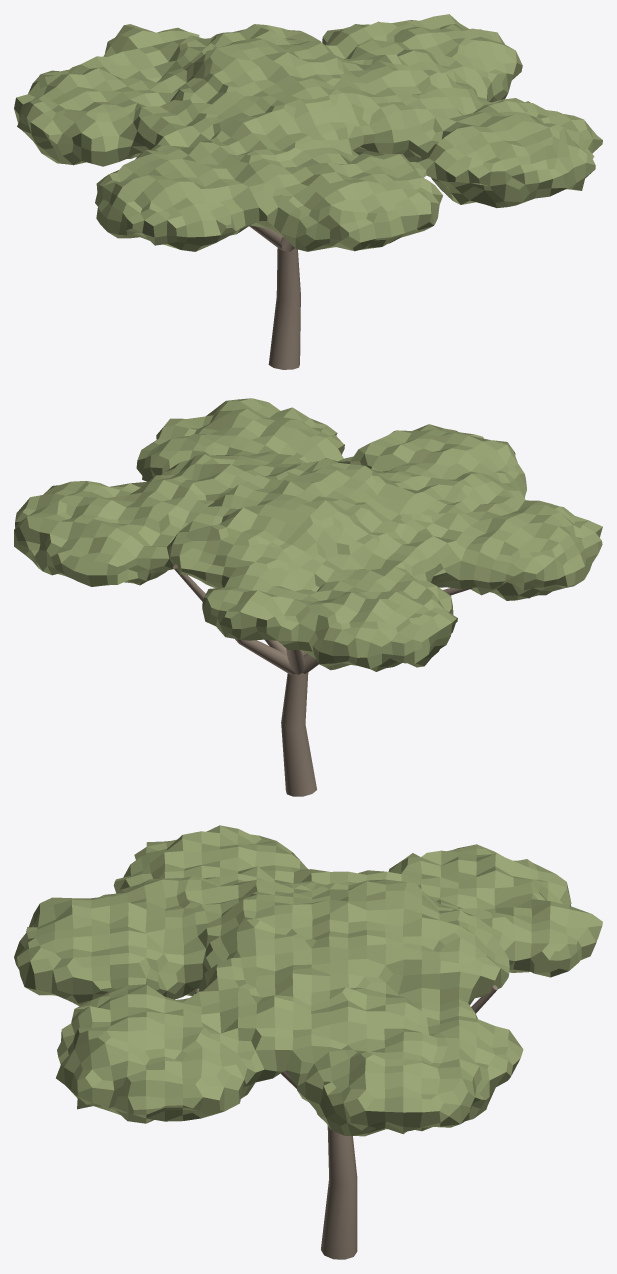
Rendered from SM_Acacia.fbx.
3 views of the same model, one above another, from view 1: azimuth 30°, elevation 25°; view 2: azimuth 150°, elevation 25°; view 3: azimuth 270°, elevation 25° (orthographic). The views are drawn at different scales.
Parts seen in each view (by area): view 1: SM_Acacia; view 2: SM_Acacia; view 3: SM_Acacia.
Boxes of the visible parts, x1,y1,x2,y2 form: SM_Acacia: [14, 14, 602, 369]; SM_Acacia: [14, 398, 602, 796]; SM_Acacia: [14, 825, 602, 1259].
Bounding box in the file's own units: 755 × 468 × 707.
